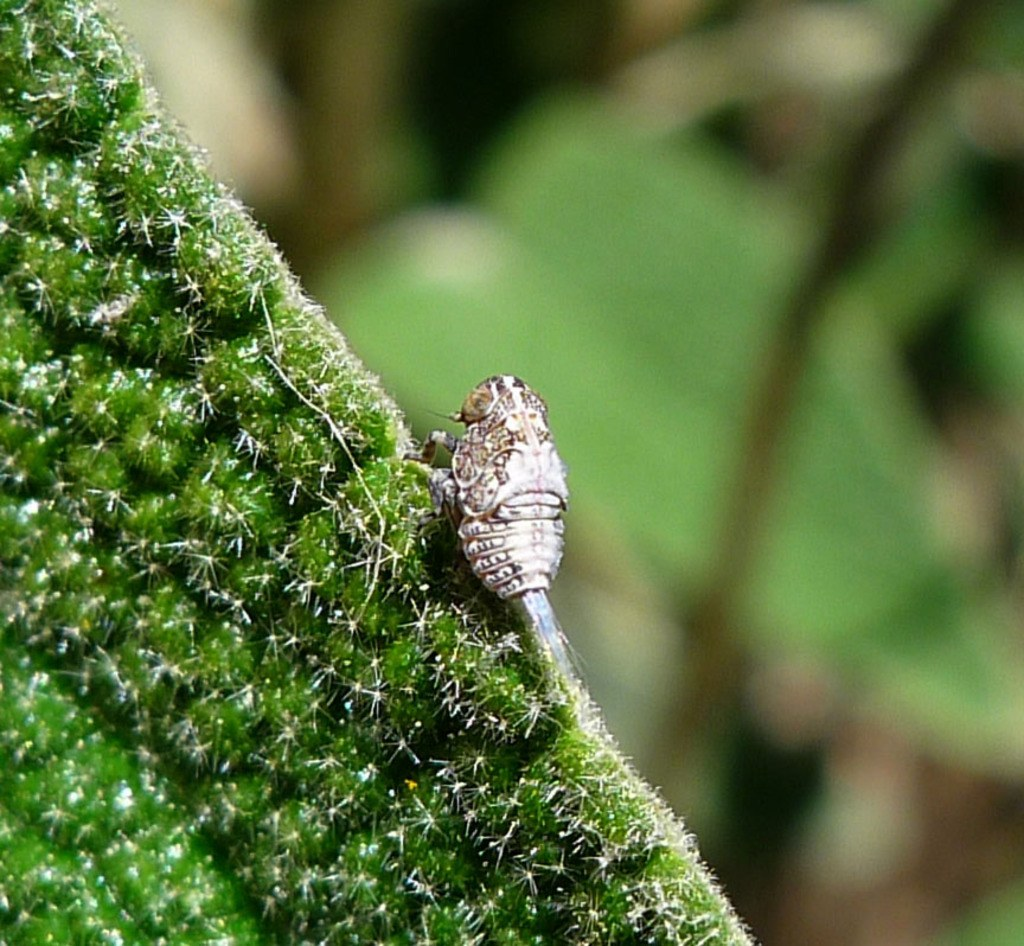insect: (402, 373, 588, 671)
